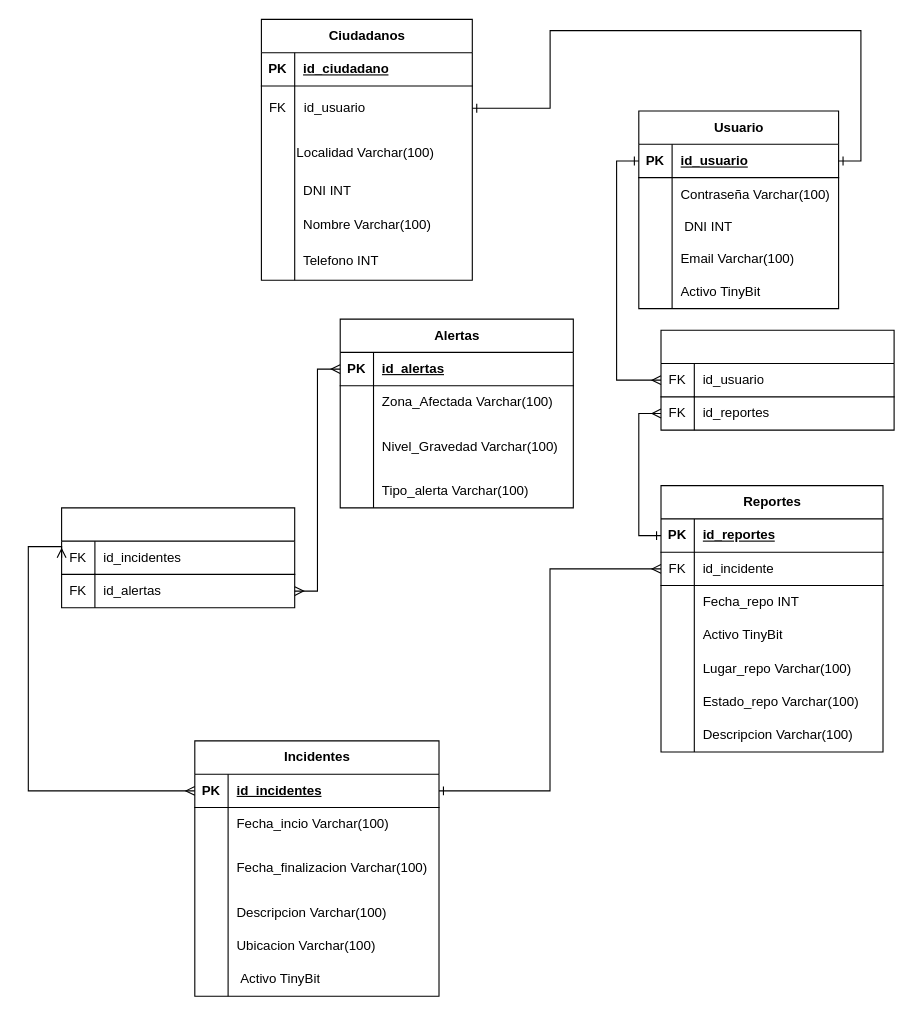
Image size: 914x1016. Some labels were removed from this diagram. Here are the shapes that lost their labels. From the top down, the box of each, then its label:
(660, 329, 894, 430): Usu_Repo
(60, 507, 295, 608): Aler_Inci
